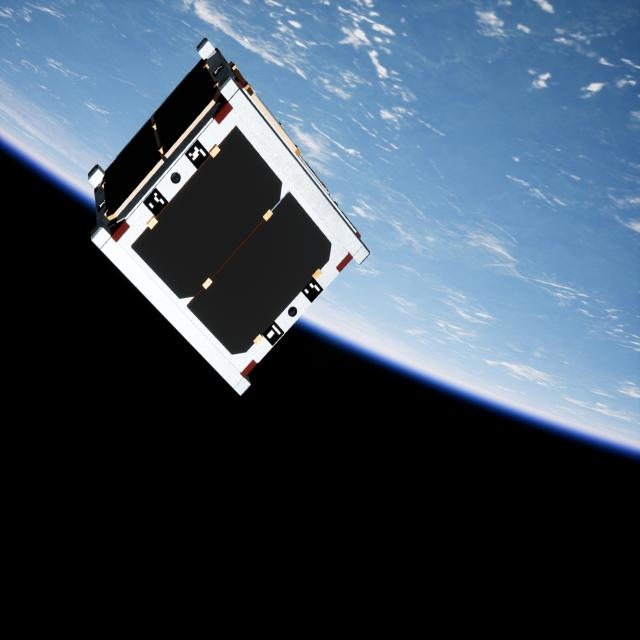satellite: (88, 34, 375, 420)
